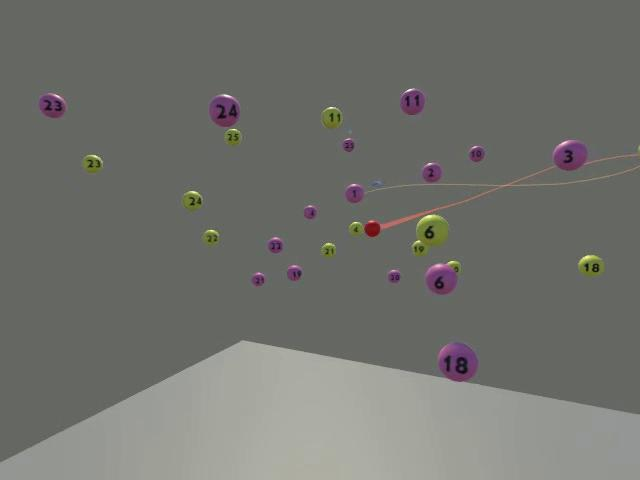ball_01_pink: (344, 183, 364, 203)
ball_02_pink: (421, 162, 442, 182)
ball_03_pink: (553, 140, 587, 170)
ball_04_pink: (302, 206, 317, 219)
ball_04_yellow: (348, 221, 363, 235)
ball_06_pink: (425, 263, 457, 294)
ball_06_yellow: (415, 213, 448, 246)
ball_10_pink: (468, 145, 484, 161)
ball_11_pink: (399, 87, 424, 114)
ball_11_yellow: (320, 106, 342, 128)
ball_18_pink: (437, 341, 477, 381)
ball_18_yellow: (577, 255, 604, 277)
ball_19_pink: (286, 265, 302, 281)
ball_19_yellow: (411, 239, 427, 256)
ball_20_pink: (387, 269, 400, 283)
ball_21_pink: (251, 273, 265, 287)
ball_21_yellow: (320, 242, 335, 257)
ball_22_pink: (266, 238, 283, 253)
ball_22_yellow: (202, 229, 219, 245)
ball_23_pink: (38, 92, 66, 118)
ball_23_yellow: (81, 154, 102, 172)
ball_24_pink: (208, 94, 240, 126)
ball_24_yellow: (181, 190, 202, 210)
ball_25_pink: (342, 138, 355, 152)
ball_25_yellow: (223, 128, 241, 146)
ball_unknown: (447, 260, 460, 273)
user_cursor: (364, 220, 380, 237)
